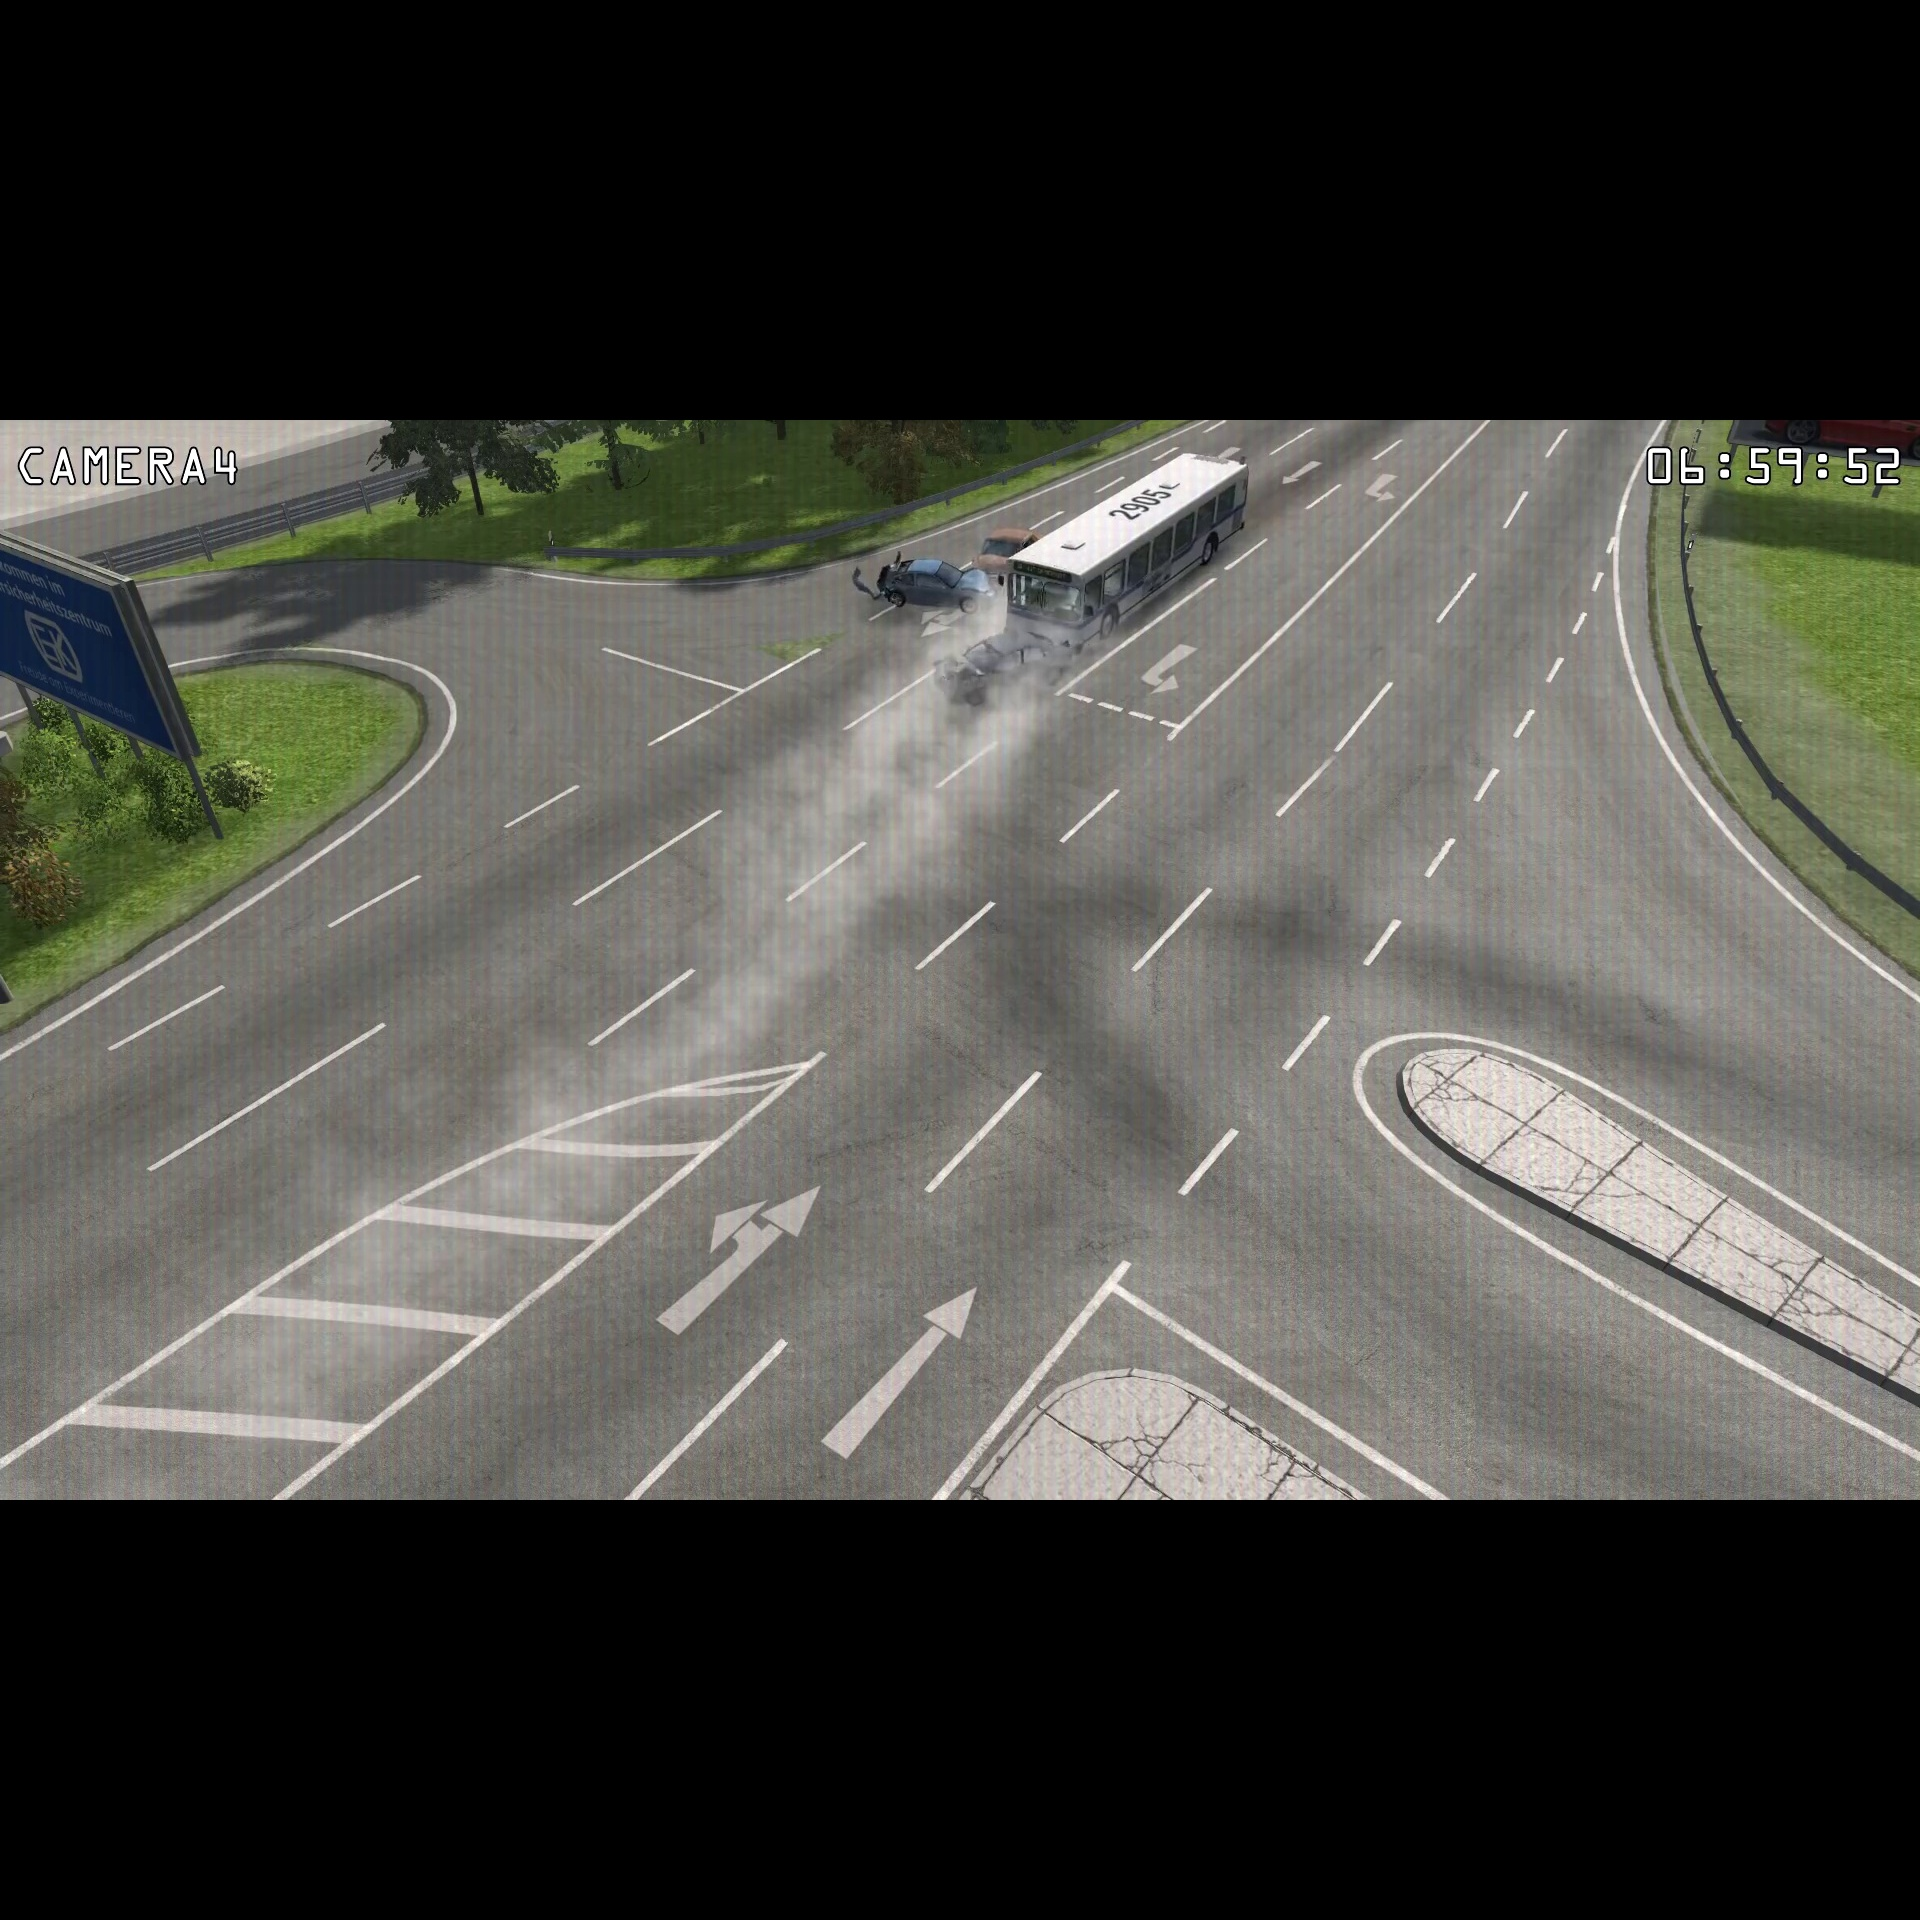vehicle: (1000, 445, 1257, 656), (930, 622, 1076, 712), (869, 550, 1000, 612), (972, 512, 1044, 585)
